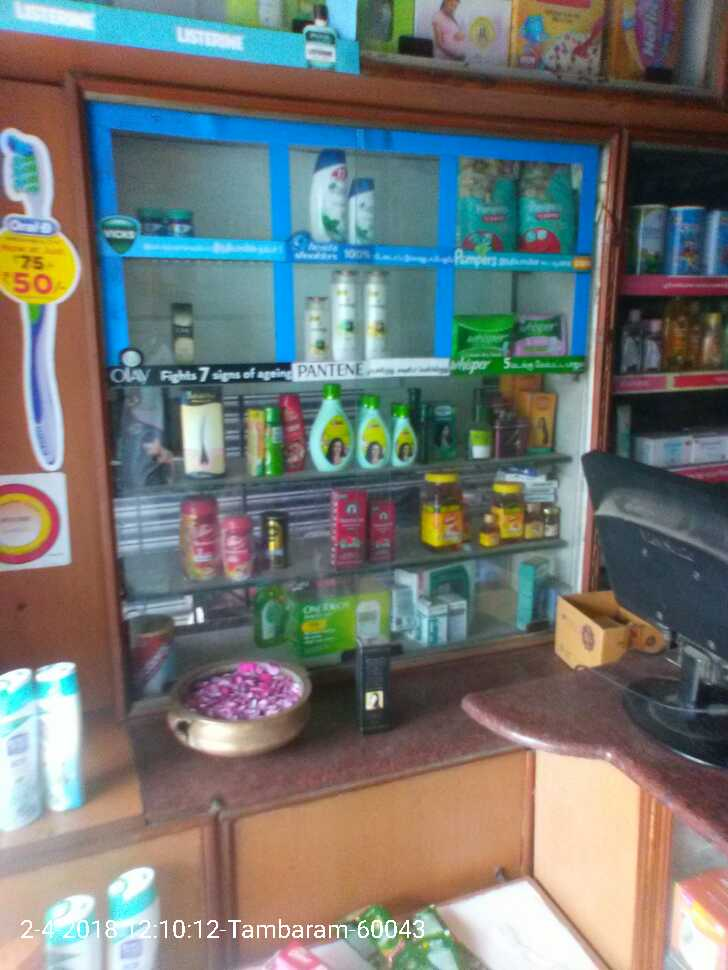vicks: (138, 200, 199, 245)
